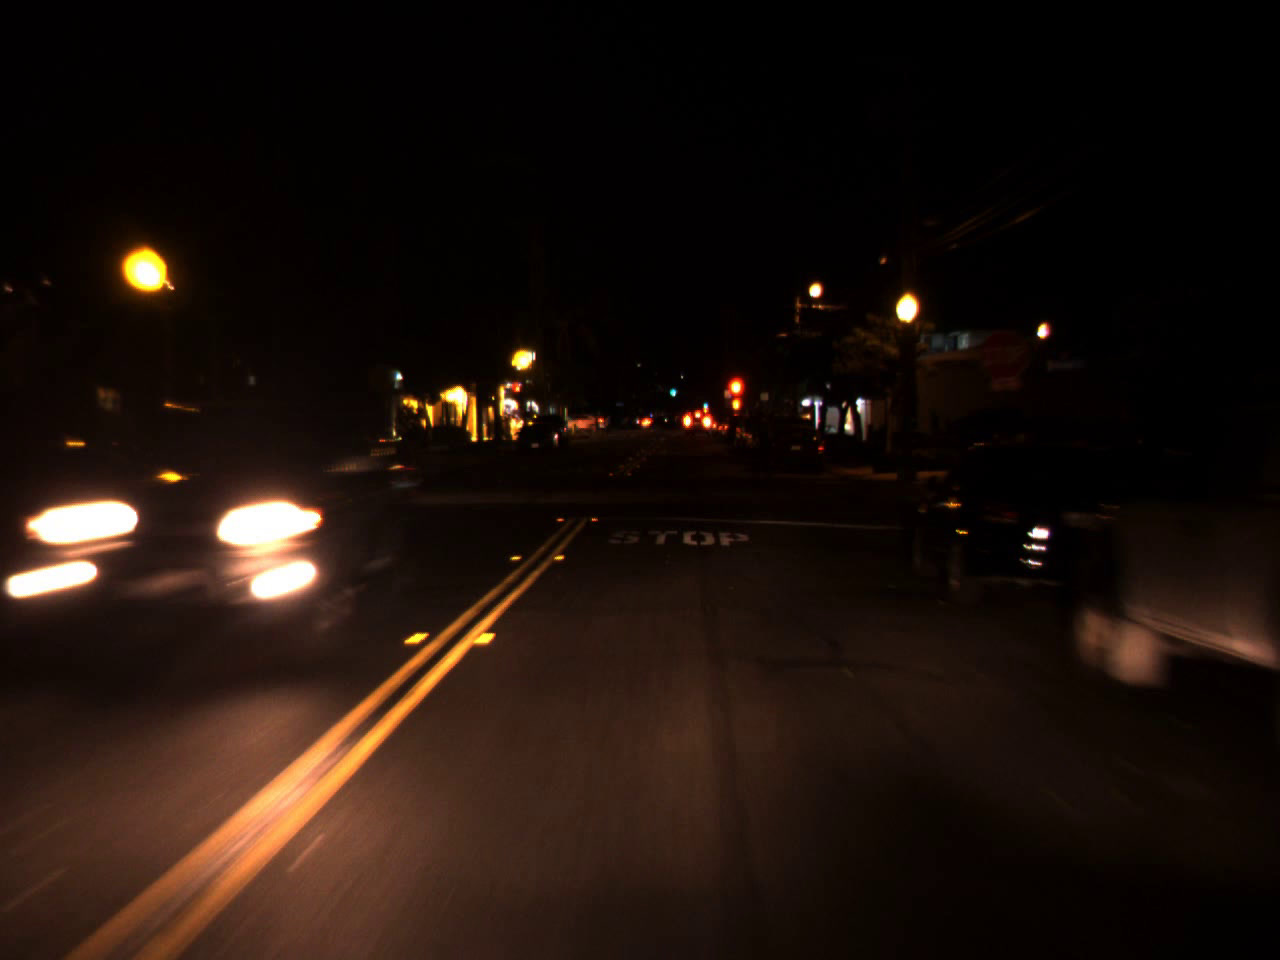go: (667, 381, 677, 399)
stop: (724, 374, 748, 414), (506, 380, 522, 404)
